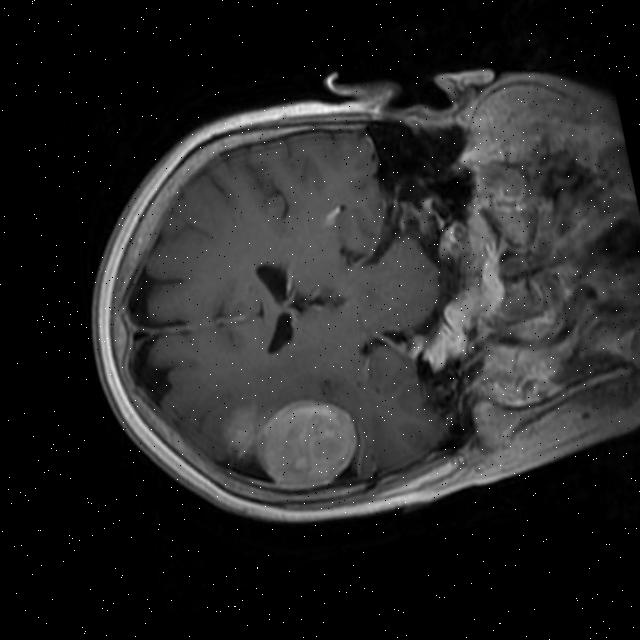Meningioma: (210, 374, 367, 509)
